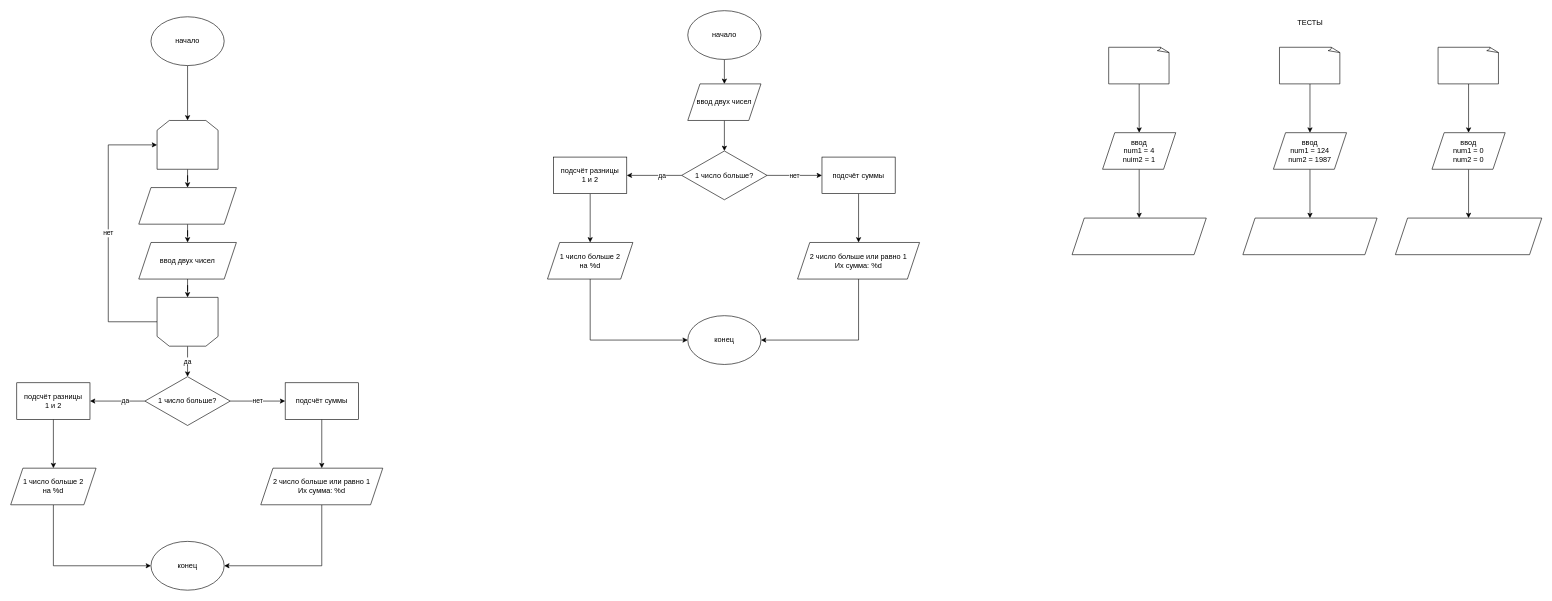
Image size: 1552x601. Some labels were removed from this diagram. The centre of each missing label's shape, as x and y in pixels:
введены два числа?: point 187,321
Вывод: "Введите два числа": point 187,205
ожидаемый и полученный вывод 1 число больше 2 на 3: point 1138,236
ожидаемый и полученный вывод 2 число больше или равно 1 Их сумма 2111: point 1309,236
ожидаемый и полученный вывод число 2 больше или равно 1 Их сумма 0: point 1468,236
тест 1: point 1139,65
тест2: point 1309,65
тест3: point 1468,65
